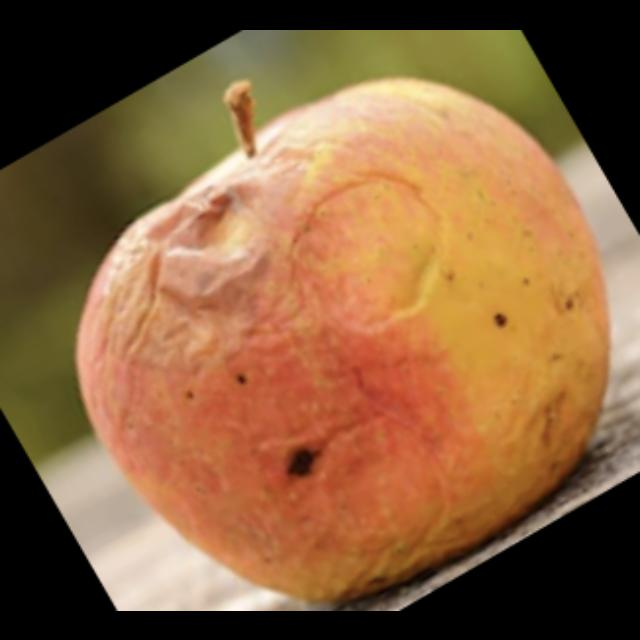Apel Tidak Segar: (85, 107, 602, 588)
